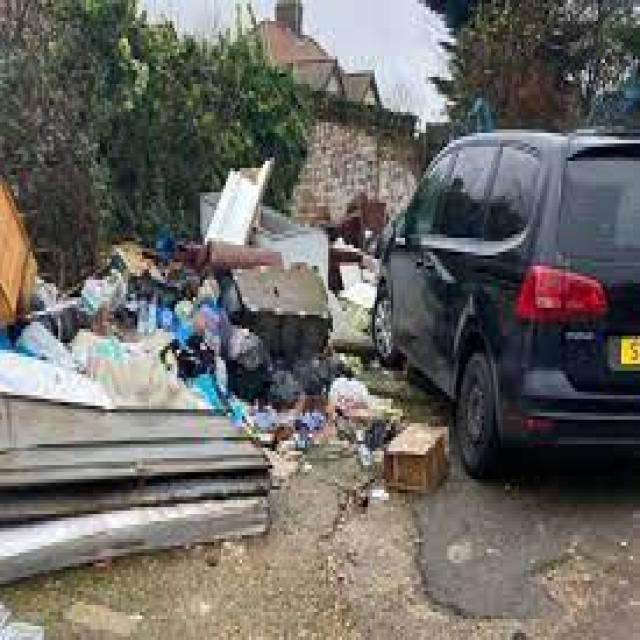dumping: (0, 136, 450, 495)
